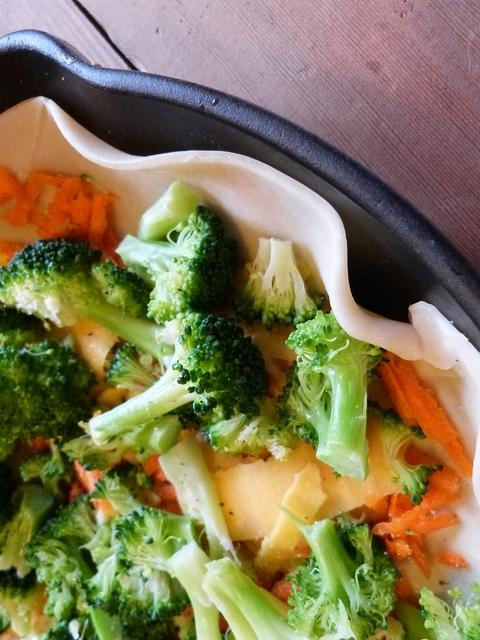broccoli: (87, 313, 271, 447), (0, 236, 172, 368), (276, 310, 381, 483), (276, 502, 403, 640), (116, 204, 251, 324), (158, 436, 258, 582), (1, 330, 100, 462), (80, 508, 191, 622), (201, 557, 310, 640), (366, 398, 444, 506), (61, 414, 182, 472), (22, 525, 94, 622), (204, 397, 292, 461), (261, 237, 319, 332), (168, 540, 222, 640), (0, 484, 54, 580), (395, 580, 480, 640), (0, 566, 46, 638), (90, 606, 181, 640), (89, 460, 145, 515), (46, 492, 98, 543), (105, 341, 156, 392), (86, 520, 128, 566), (41, 442, 73, 499), (33, 617, 100, 640)
carrot: (384, 351, 457, 444), (372, 466, 462, 538), (36, 177, 82, 241), (73, 460, 118, 524), (378, 361, 419, 426), (5, 180, 43, 227), (0, 168, 33, 208), (392, 569, 424, 610), (406, 536, 432, 578), (15, 438, 53, 464), (88, 196, 106, 248), (270, 580, 302, 609), (28, 210, 59, 234), (71, 190, 91, 227), (386, 536, 412, 562), (61, 481, 86, 506), (154, 477, 177, 503), (437, 550, 469, 568), (0, 239, 24, 260), (35, 172, 65, 186), (142, 455, 160, 476), (218, 614, 228, 634), (154, 468, 168, 482), (180, 604, 193, 618), (86, 198, 92, 220)
